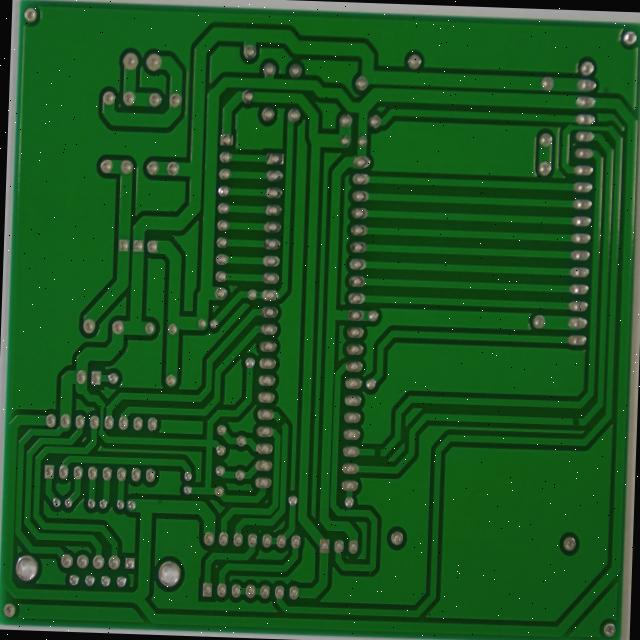open_circuit: (331, 523, 349, 543), (557, 488, 573, 507), (222, 490, 238, 508)
